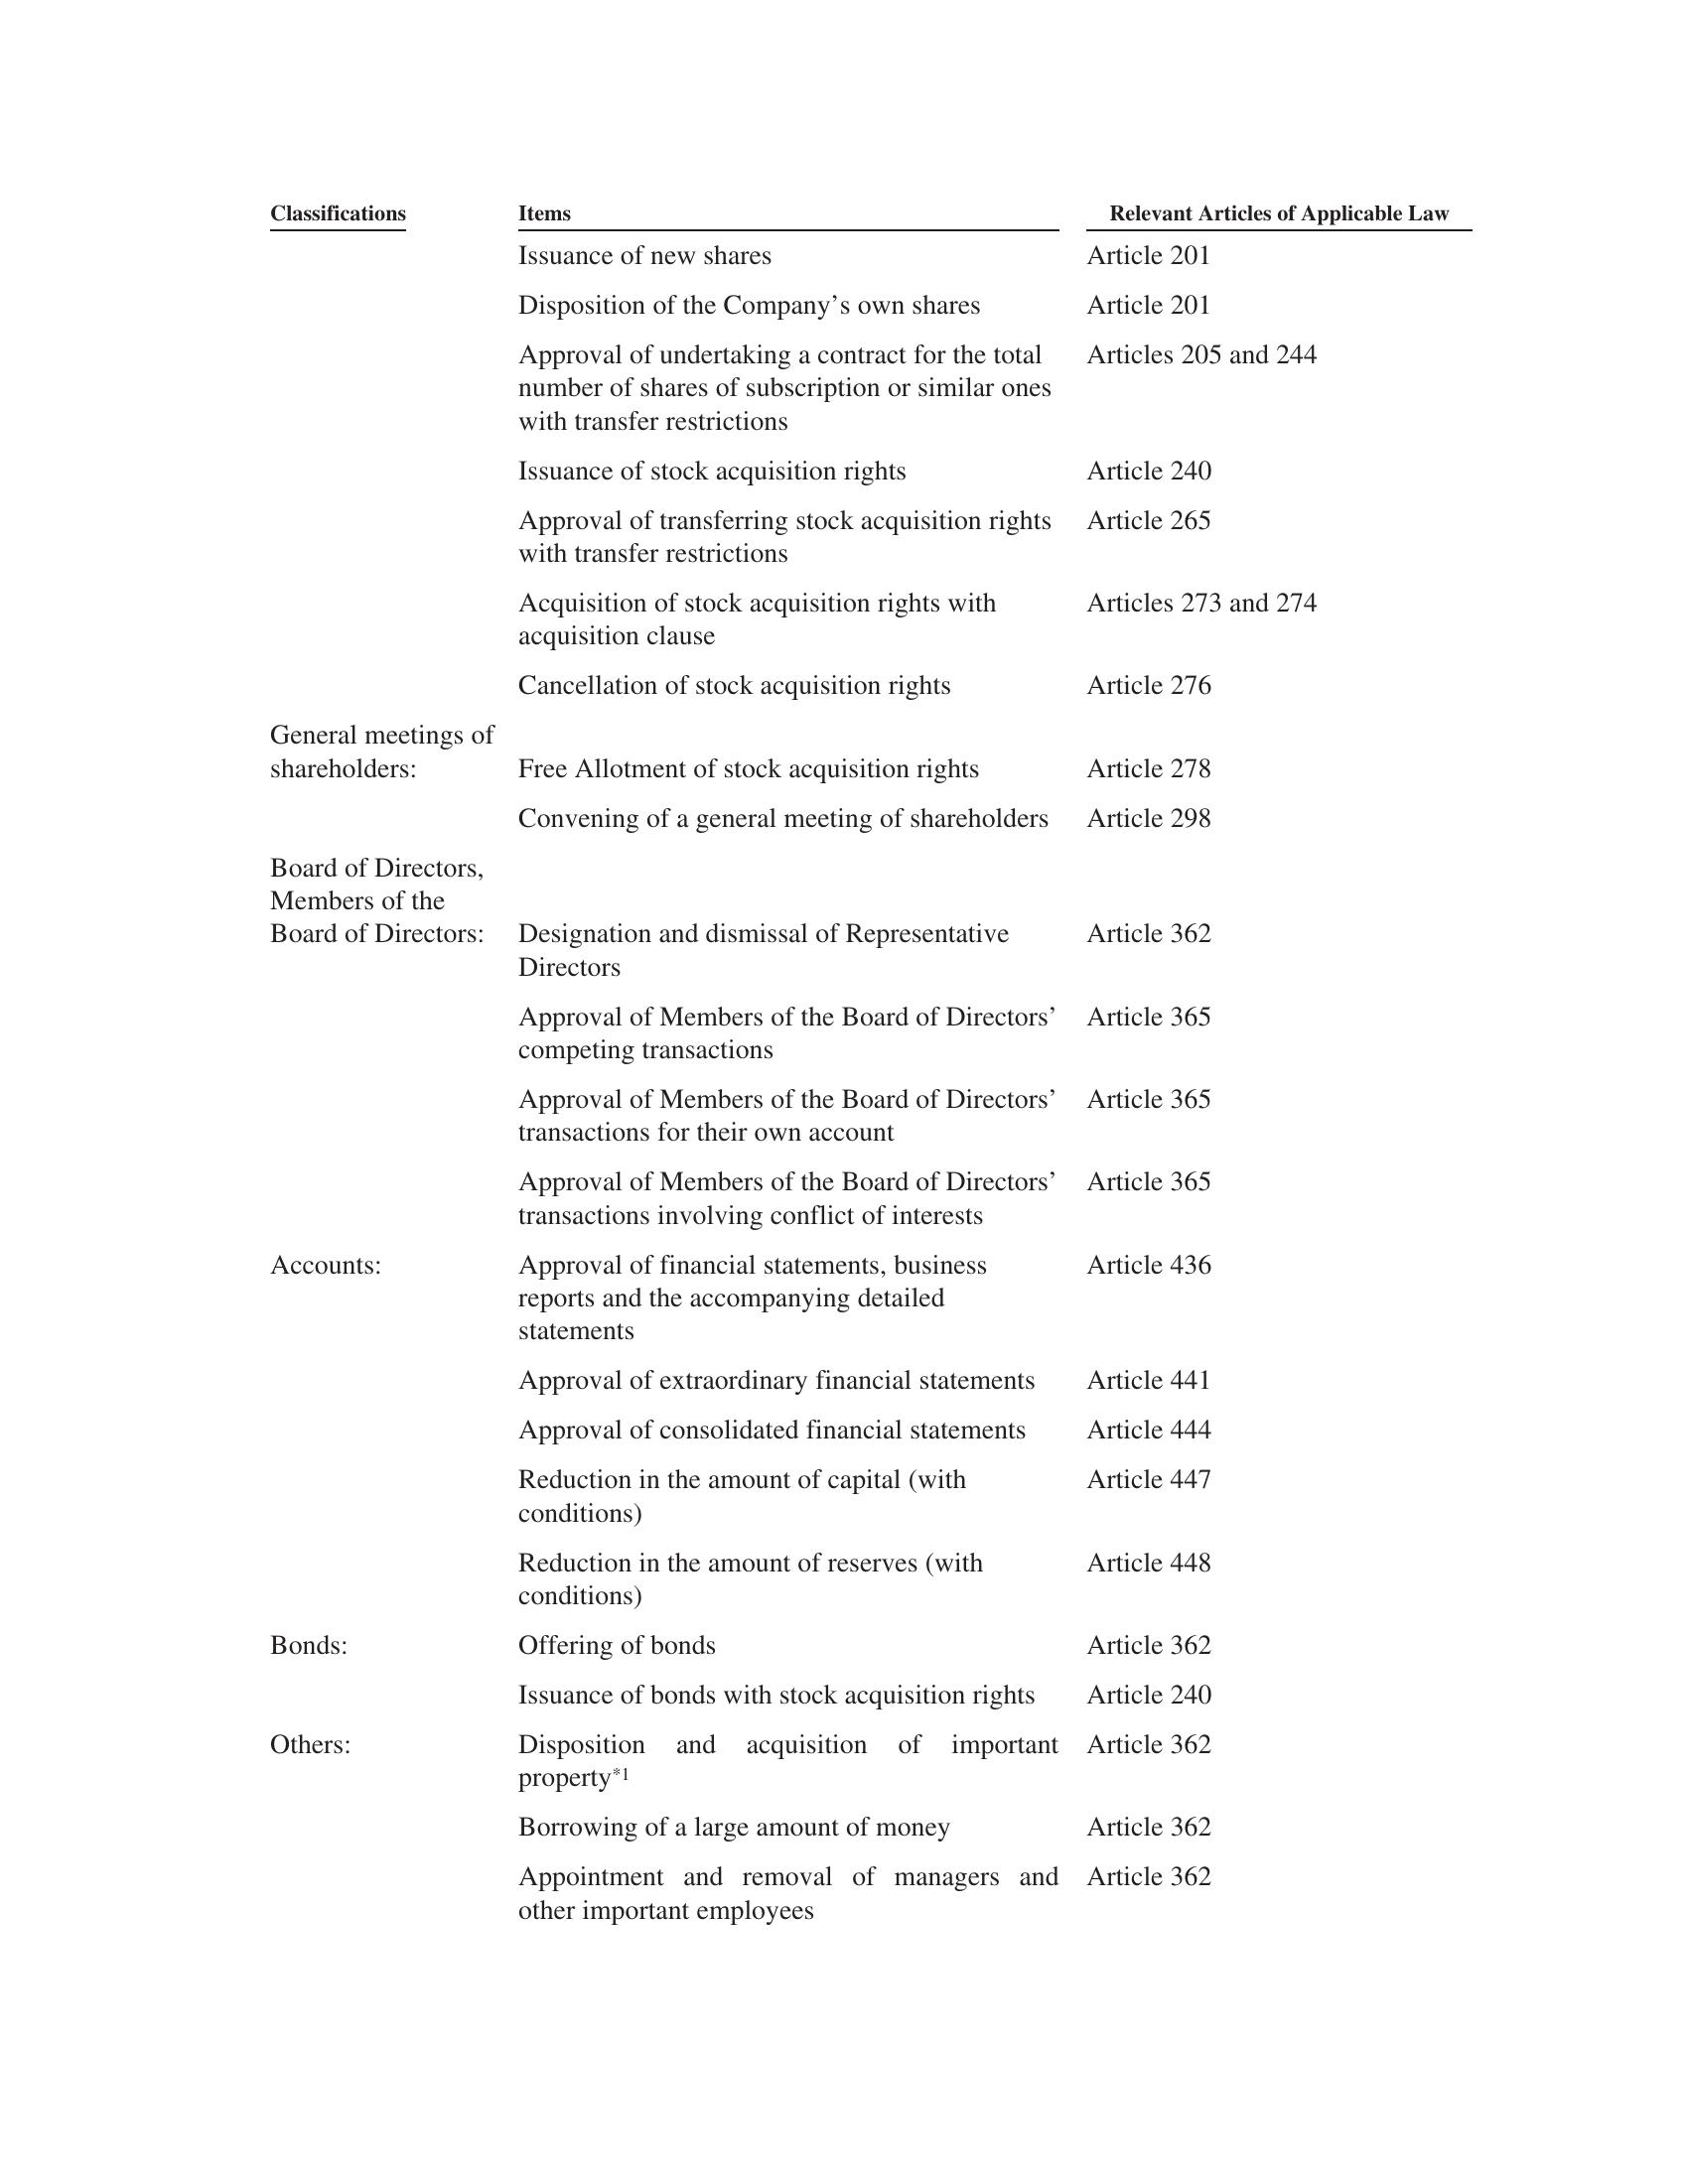Footer: (0, 1975, 1688, 2184)
Header: (0, 0, 1688, 167)
Table: (188, 183, 1482, 1932)
